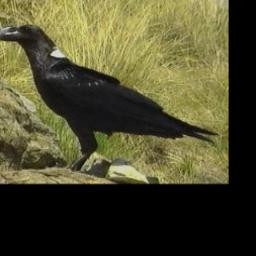Crow: (0, 22, 220, 174)
